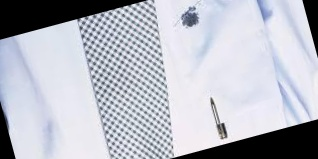ink: (178, 6, 201, 30)
